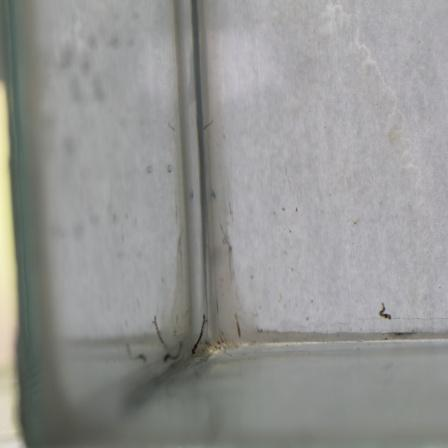Jentik-Nyamuk: (188, 312, 211, 357), (375, 299, 395, 323)
